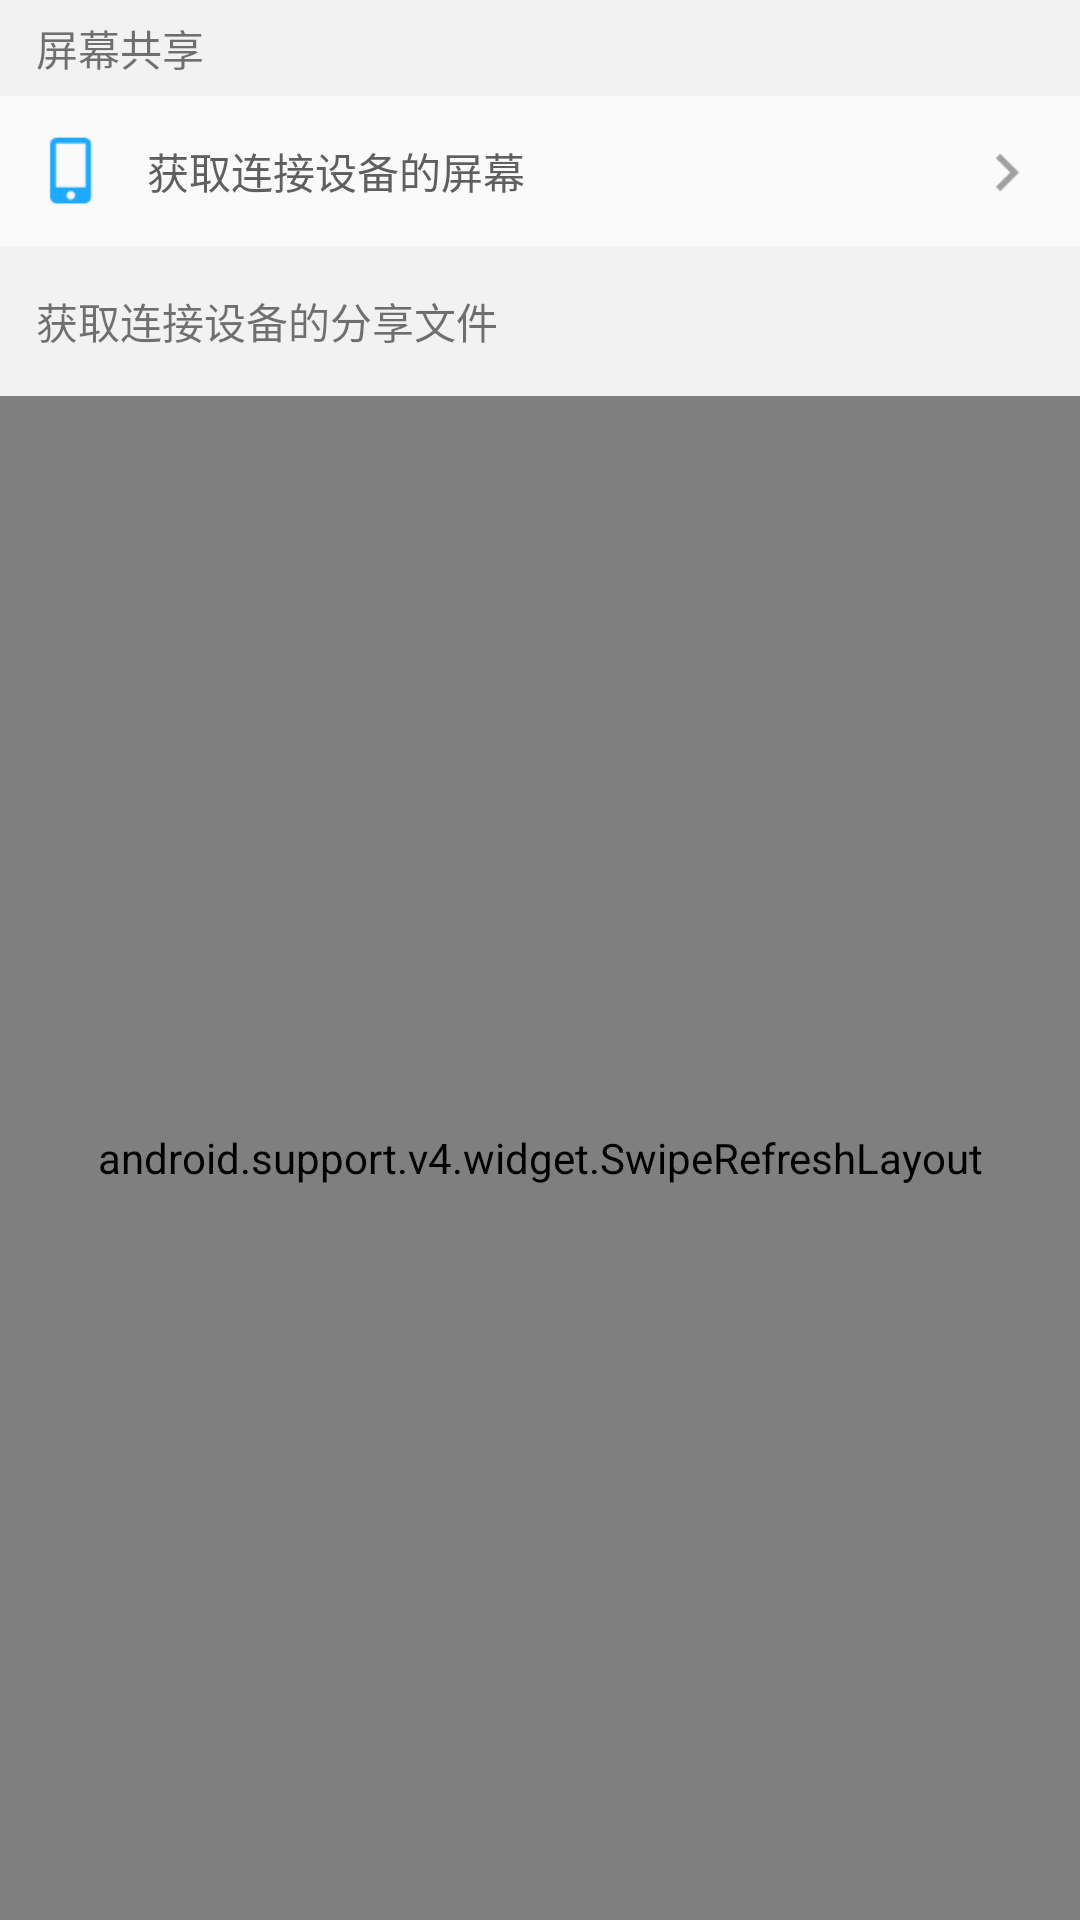

Where to tap for icons on this 1080 × 1920 app screen, as [x,y]:
itemarrow: [1007,172]
phone: [70,170]
